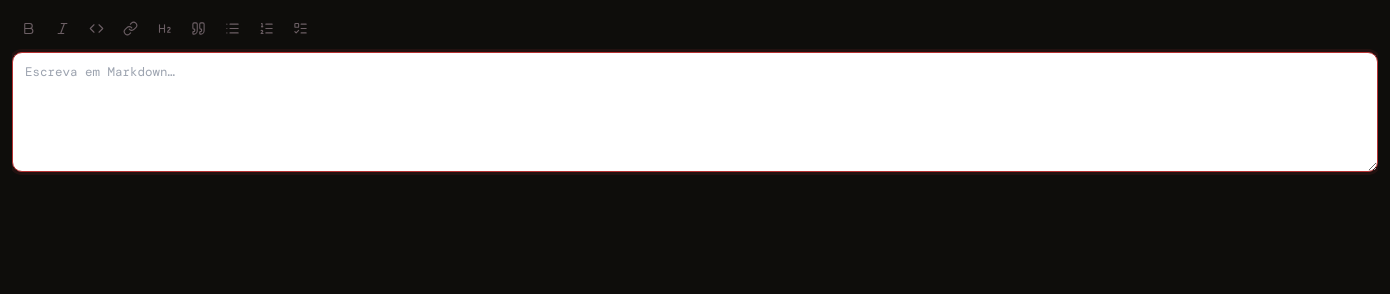
it: MarkdownEditor — menções › digitar @ lista as pessoas, as setas navegam e Enter insere a menção
The image size is (1390, 294).
Type "fale com @an" into the text box at {"x": 695, "y": 112}, box x1=12 y1=52 x2=1378 y2=172
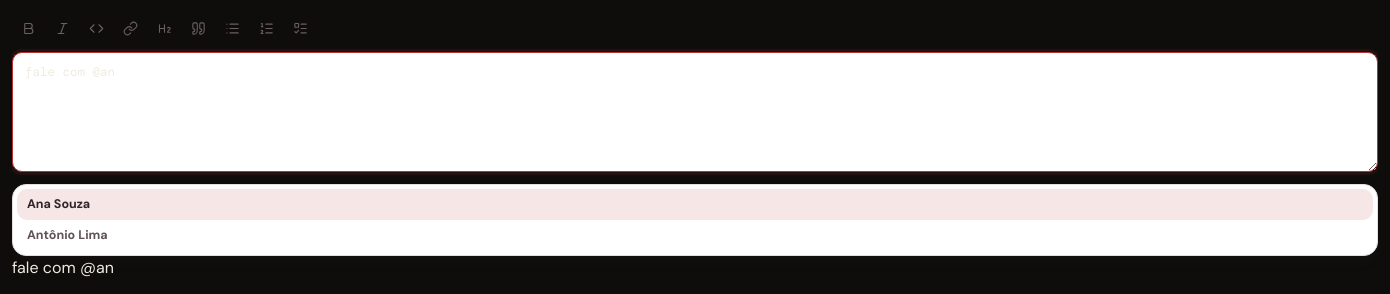
Check: the number of options is 2, box x1=17 y1=189 x2=1373 y2=220; x1=27 y1=227 x2=108 y2=243
Press Arrowdown Enter
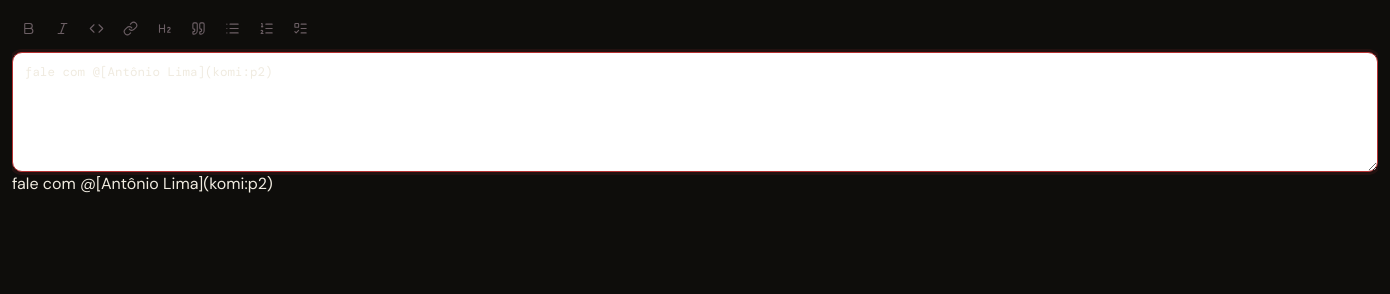
Check: the text with test id "out" reads "fale com @[Antônio Lima](komi:p2)", box x1=12 y1=173 x2=273 y2=194
Check: the list is gone
